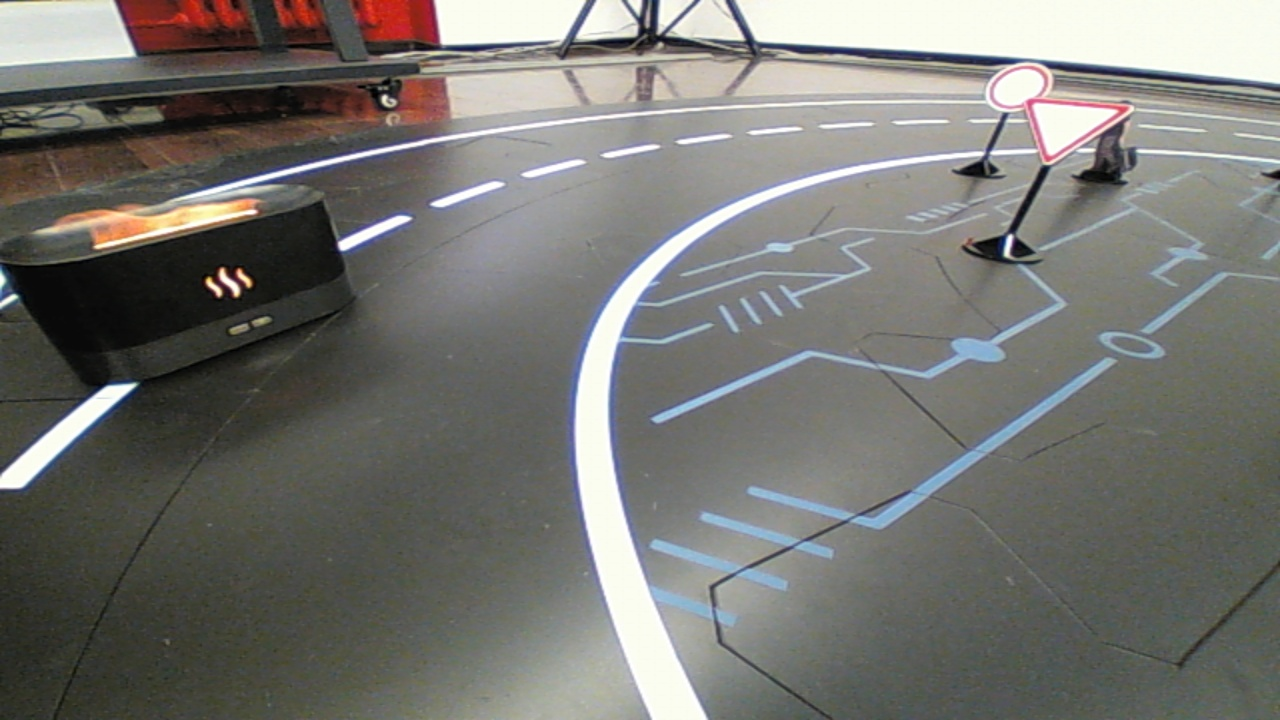Movement prohibition: (5, 165, 371, 398)
